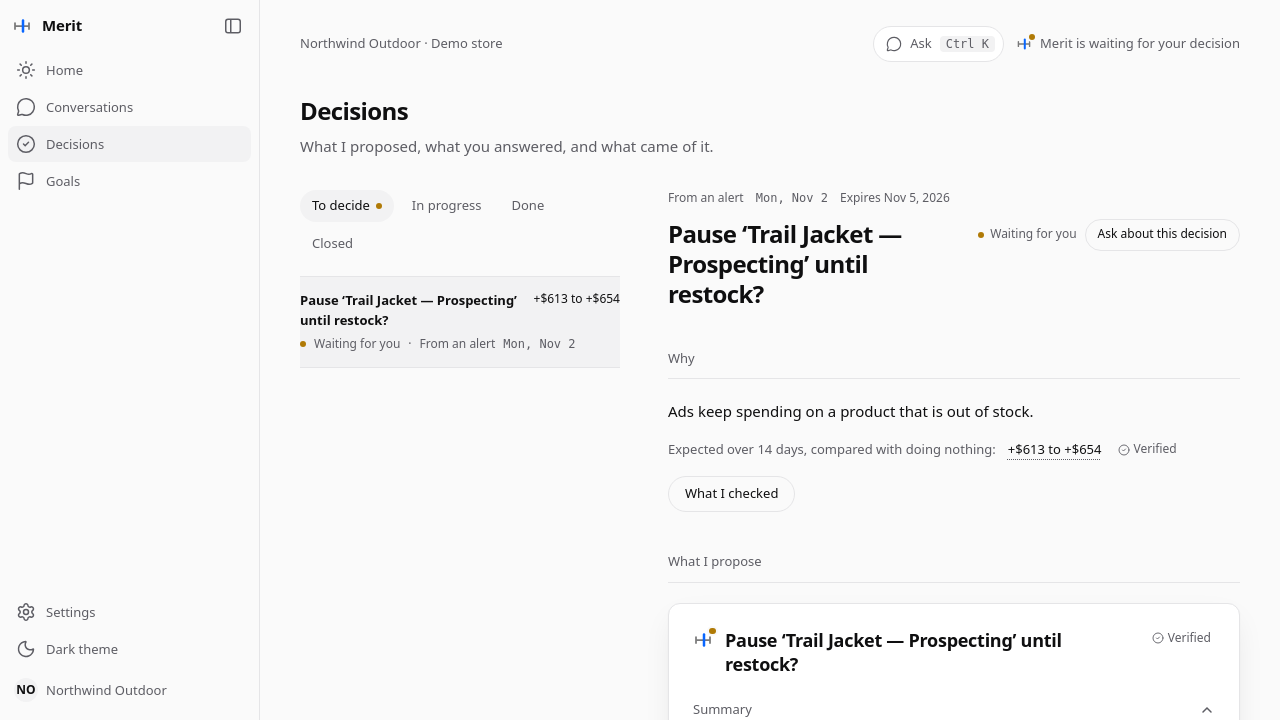
Test: the Decisions page › asks about a decision in the conversation, with its questions
Click the button "Ask about this decision": (1162, 235) [1085,219,1240,251]
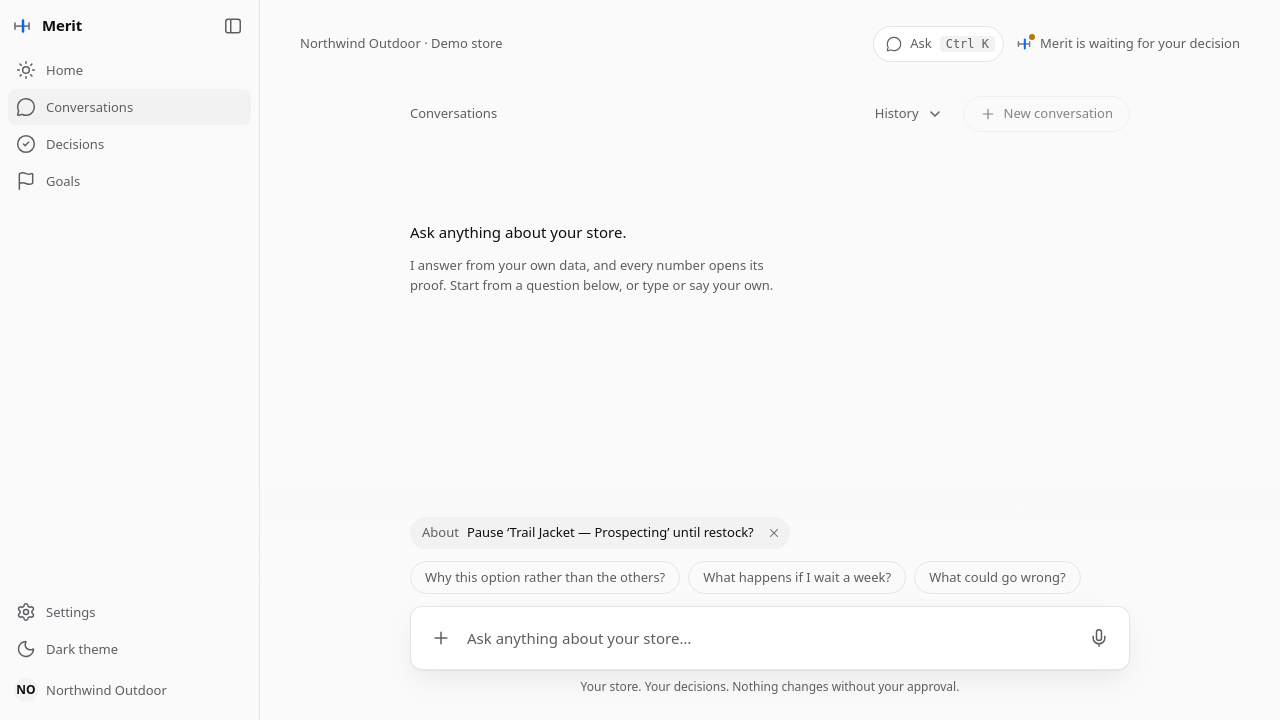
Expected: the text "Pause ‘Trail Jacket — Prospecting’ until restock?" is shown, [467,523,754,542]
Result: the button "What could go wrong?" is shown at [914,561,1081,594]
